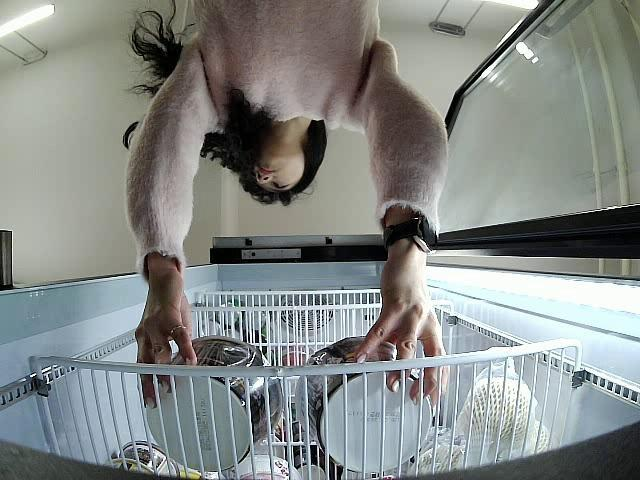07_buldak_L: (142, 332, 280, 474), (296, 338, 434, 476)
